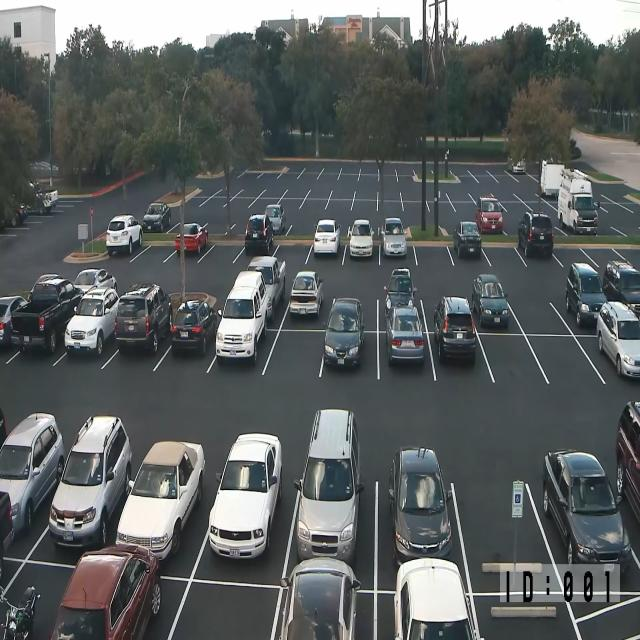space-empty: (457, 459, 548, 595), (156, 576, 274, 638), (530, 332, 594, 400), (483, 332, 541, 393), (267, 328, 324, 384), (418, 282, 473, 331), (326, 281, 379, 331), (512, 287, 562, 336), (413, 230, 452, 272), (484, 230, 522, 272), (553, 236, 591, 271), (137, 236, 173, 269), (206, 236, 243, 268), (590, 196, 616, 234), (275, 235, 310, 262), (530, 212, 559, 241), (501, 202, 528, 232), (513, 176, 537, 201), (457, 200, 480, 226), (350, 214, 377, 236), (322, 214, 350, 234), (415, 210, 441, 229), (526, 197, 549, 214), (384, 214, 404, 233), (303, 196, 328, 211), (252, 199, 277, 214), (330, 186, 356, 200), (354, 186, 379, 200), (206, 195, 230, 209), (281, 196, 303, 211), (229, 197, 254, 210), (378, 187, 400, 201), (402, 199, 422, 214), (495, 188, 516, 202), (448, 189, 470, 202), (261, 185, 283, 198), (448, 167, 470, 180), (400, 186, 420, 200), (239, 185, 262, 197), (472, 166, 493, 179), (435, 200, 454, 214), (184, 196, 206, 208), (420, 190, 441, 202), (240, 173, 261, 184), (302, 161, 321, 173), (494, 174, 515, 184), (360, 162, 379, 173), (338, 172, 358, 182), (318, 170, 338, 180), (260, 170, 280, 180), (394, 167, 414, 177), (282, 168, 302, 177), (378, 175, 398, 182), (358, 175, 378, 182)
space-occupied: (296, 449, 376, 584), (377, 460, 459, 591), (126, 438, 208, 568), (206, 454, 289, 574), (54, 428, 129, 552), (62, 558, 168, 640), (547, 457, 620, 572), (0, 556, 67, 639), (274, 584, 365, 639), (213, 326, 271, 383), (237, 262, 289, 325), (432, 333, 488, 391), (593, 324, 639, 392), (560, 273, 610, 333), (379, 333, 432, 388), (324, 332, 377, 386), (162, 327, 215, 381), (286, 266, 329, 328), (60, 329, 116, 374), (113, 329, 165, 377), (470, 280, 515, 335), (17, 326, 64, 371), (518, 226, 559, 274), (377, 281, 417, 328), (450, 222, 487, 272), (379, 224, 414, 270), (556, 201, 596, 240), (175, 227, 208, 266), (346, 230, 378, 270), (242, 224, 274, 263), (310, 232, 344, 268), (110, 233, 142, 265), (142, 211, 170, 236), (538, 181, 557, 202)
